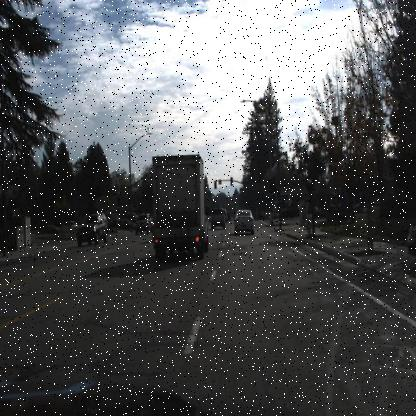car: (74, 209, 110, 245), (76, 210, 111, 246), (131, 208, 153, 236), (233, 207, 254, 235), (278, 202, 302, 222), (63, 216, 80, 237), (210, 207, 225, 230)
truck: (147, 151, 210, 266)
